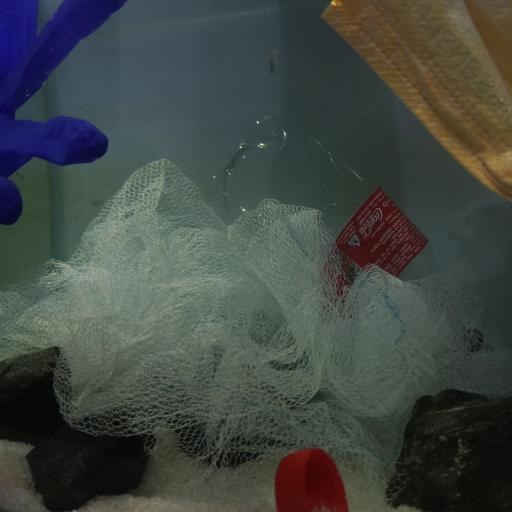bottle_cap: (275, 447, 349, 512)
glove: (0, 0, 122, 224)
mask: (315, 0, 512, 201)
net: (0, 158, 503, 490)
plastic_bottle: (213, 111, 499, 354)
